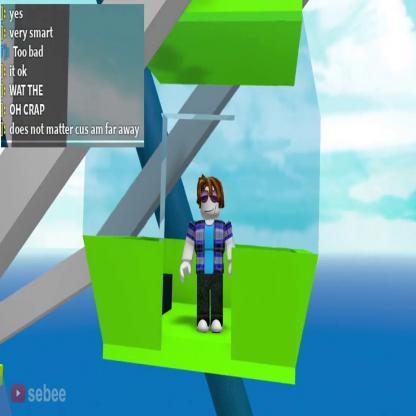Roblox-Avatar: (181, 174, 236, 334)
